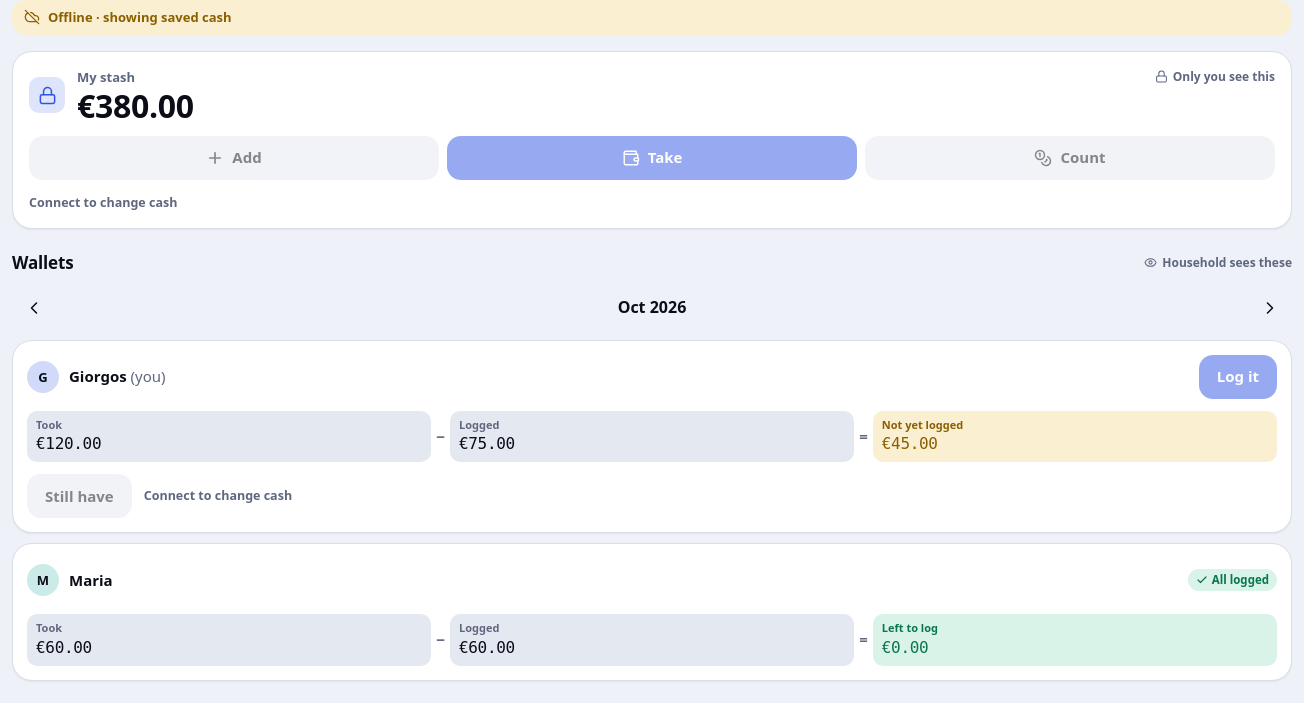
Test: I1: offline, stepping to a month not saved keeps the stash and the stepper; only the wallets say so
Expected: the text "€380.00" is shown, [77,84,194,127]
Click the button named "Previous month". click: (34, 308)
box: [12,286,56,330]
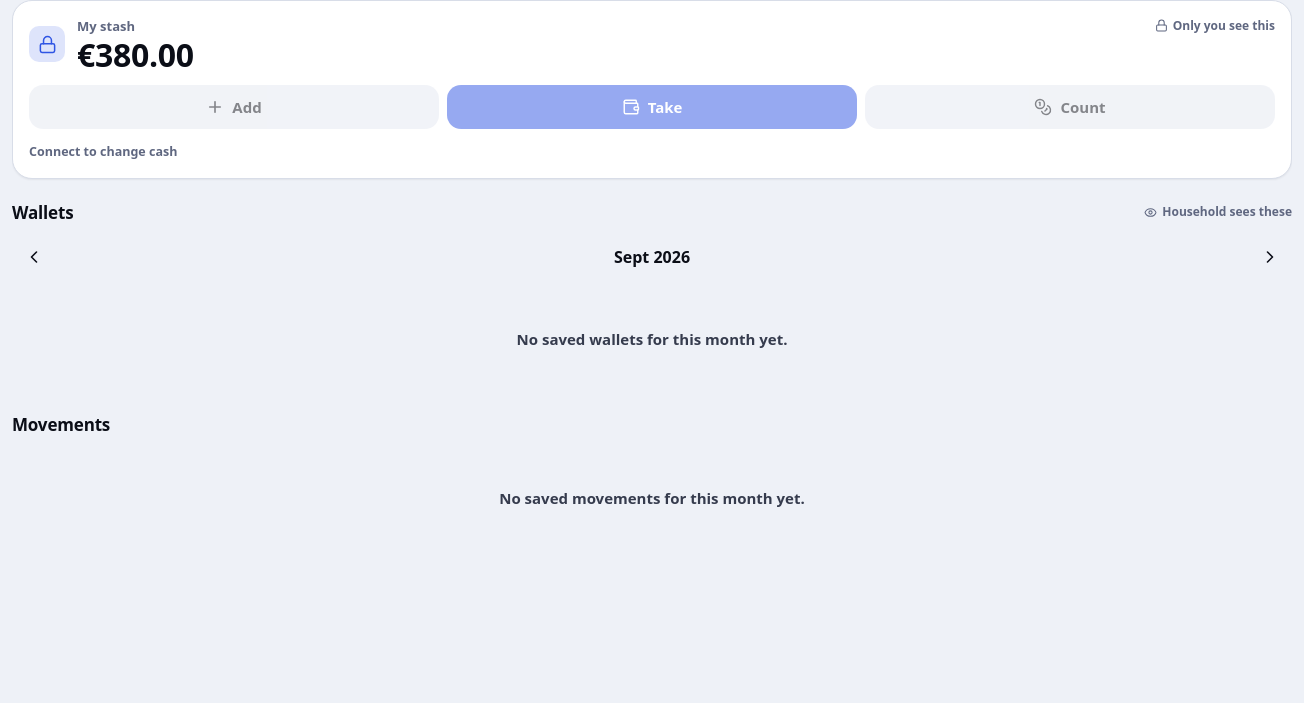
Expected: the element "My stash" shows "€380.00", [77,33,194,76]
Result: the text "No saved wallets for this month yet." is shown at [516,329,787,351]
Click the button named "Next month". click: (1270, 257)
box: [1248,235,1292,279]
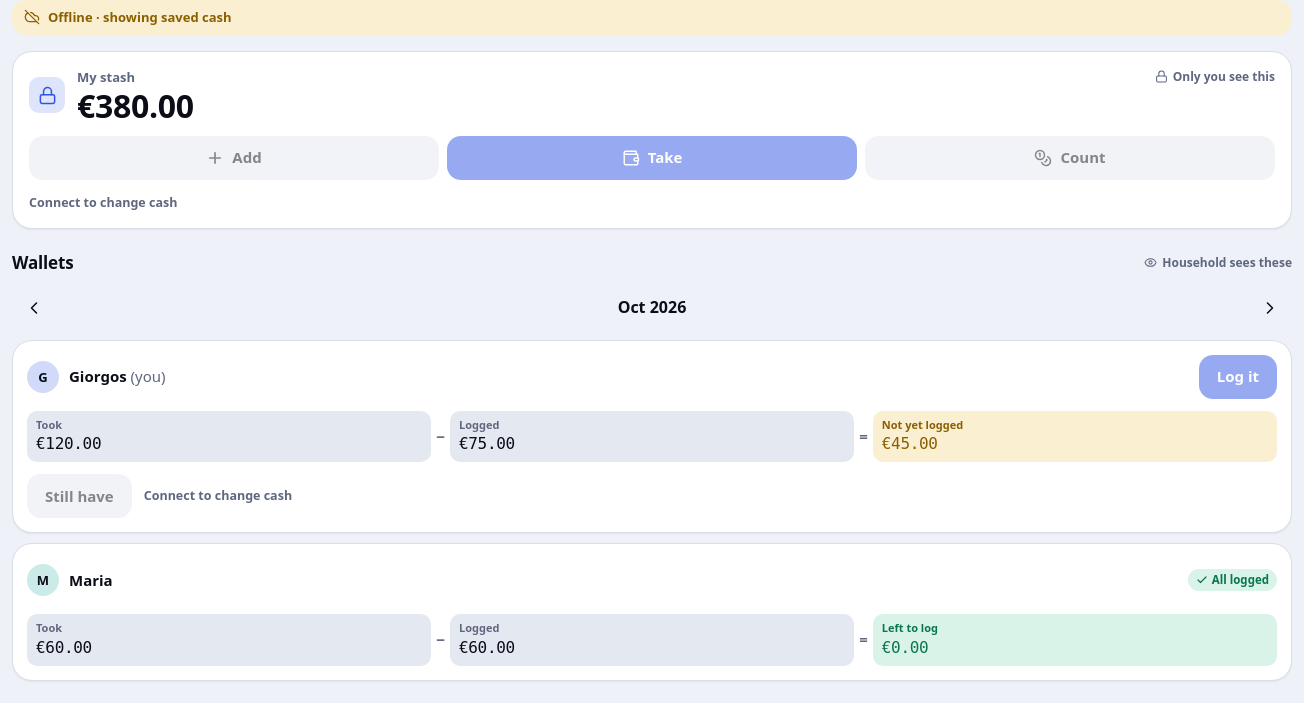
Result: the element named "Giorgos's wallet" is shown at [12,340,1292,533]
